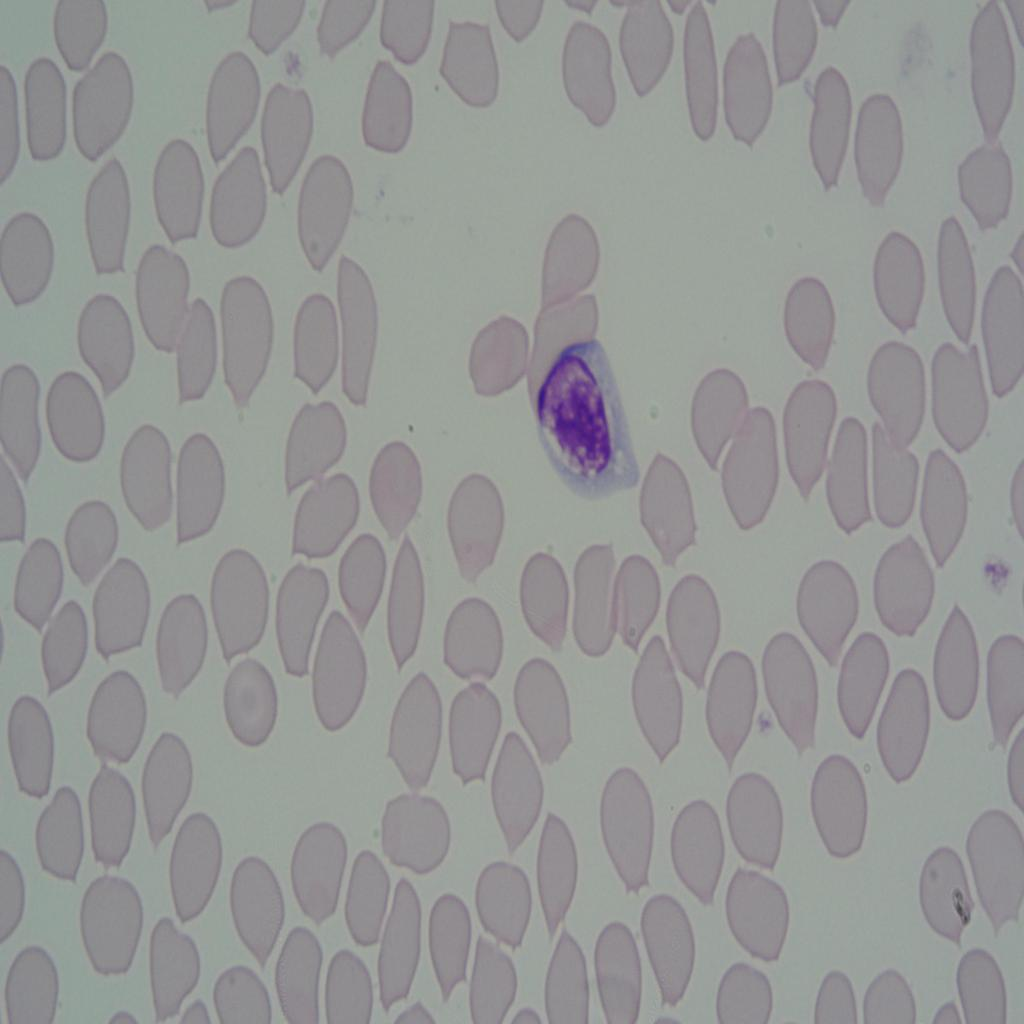Myeoblast: (531, 336, 636, 507)
Platelet: (975, 545, 1005, 600)
